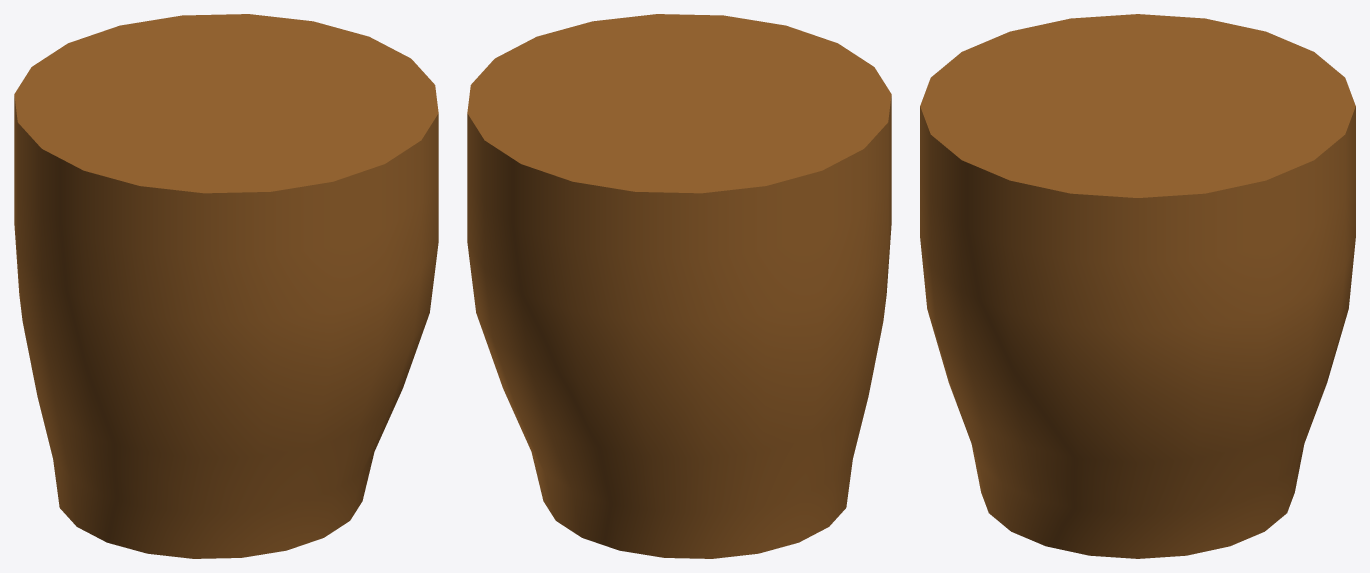
File: cha_dog_leftleg.obj
3 renders of one model, left to right at view 1: azimuth 30°, elevation 25°; view 2: azimuth 150°, elevation 25°; view 3: azimuth 270°, elevation 25°, orthographic. The views are drawn at different scales.
Parts seen in each view (by area): view 1: cha_dog_leftleg; view 2: cha_dog_leftleg; view 3: cha_dog_leftleg.
Boxes of the visible parts, x1,y1,x2,y2 form: cha_dog_leftleg: (14,14,438,558); cha_dog_leftleg: (467,14,891,558); cha_dog_leftleg: (920,14,1355,558).
Size of the model in its own units: 0.2415 by 0.2415 by 0.2415.
